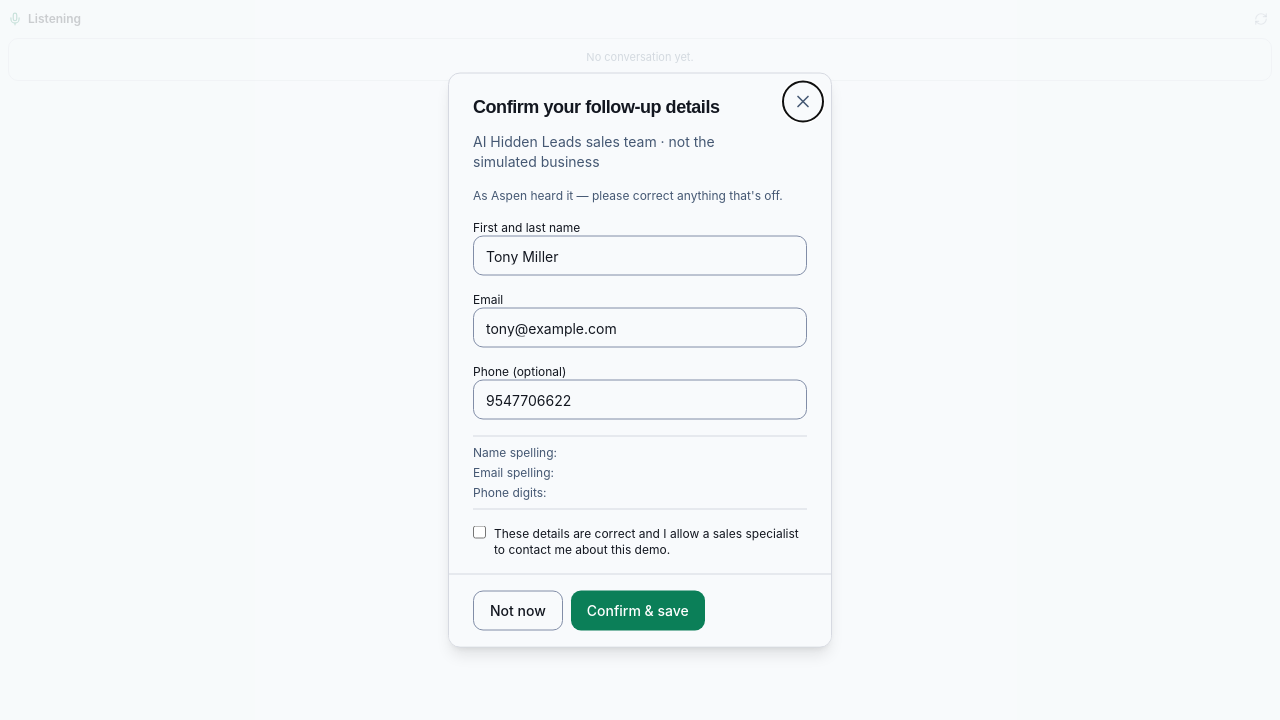
Publish #68 — the Form waiting chip › a dismissed card leaves the chip; the chip re-issues the same card; a confirm retires it
Later steps or results of the test are not shown.
Check: the heading "Confirm your follow-up details" is shown, box x1=473 y1=96 x2=720 y2=116
Check: the button "Form waiting — tap to open" is not shown
Click the button "Not now".
click(518, 610)  # box x1=473 y1=590 x2=563 y2=630
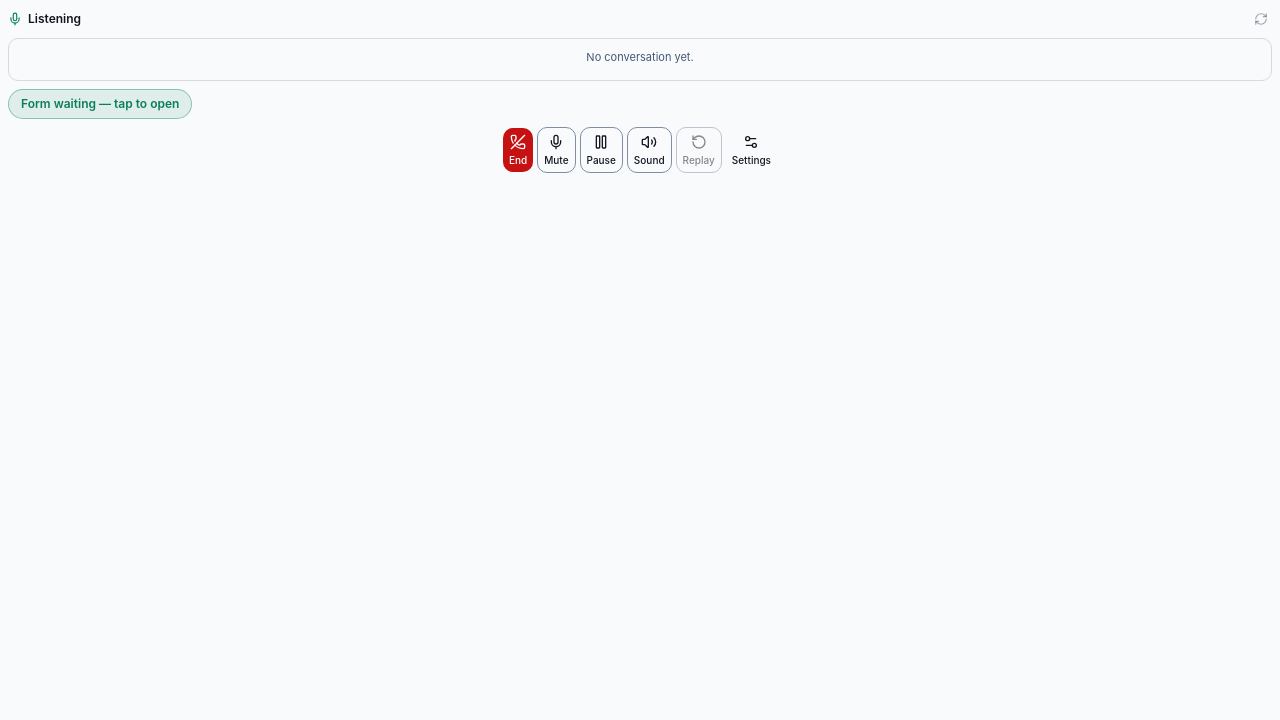
Check: the heading "Confirm your follow-up details" is gone
Check: the button "Form waiting — tap to open" is shown
Click the button "Form waiting — tap to open".
click(100, 104)  # box x1=8 y1=88 x2=192 y2=118
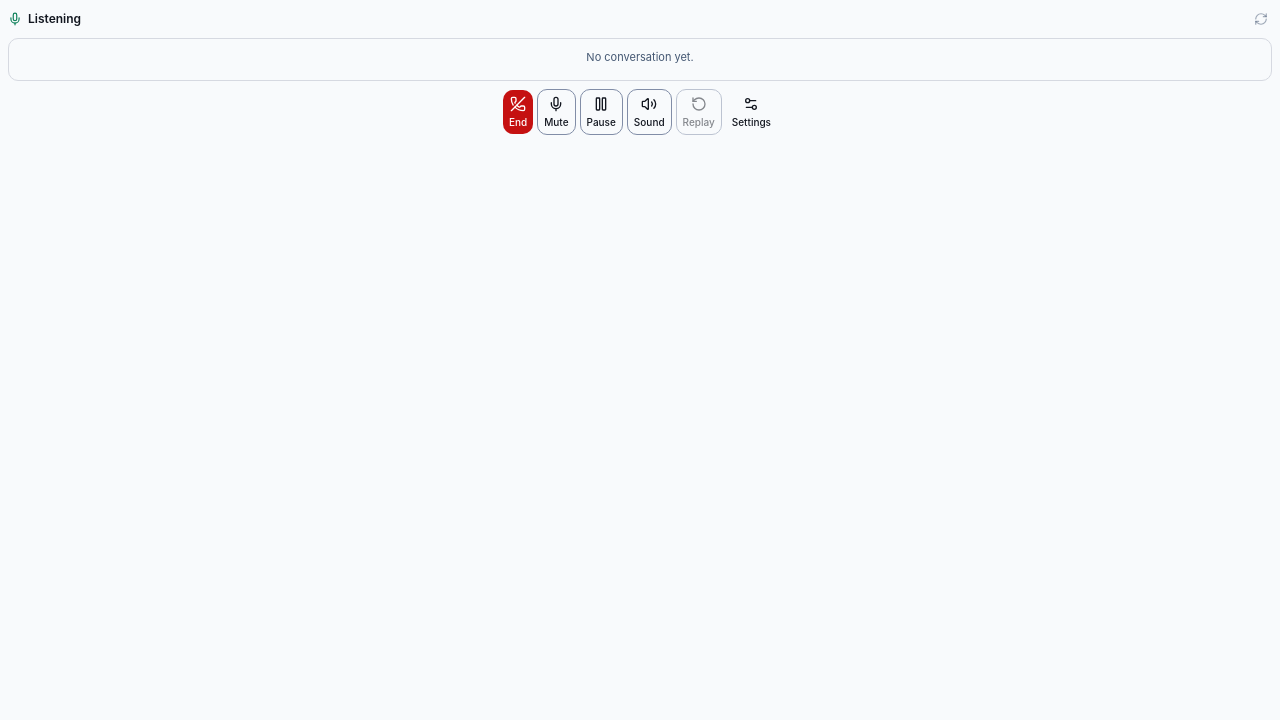
Check: the button "Form waiting — tap to open" is gone
